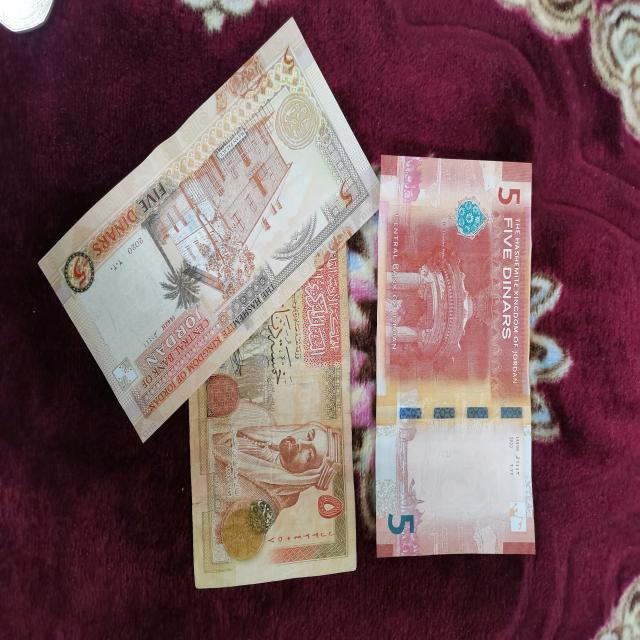5-dinar: (34, 10, 390, 441), (373, 153, 546, 564), (186, 211, 357, 588)
